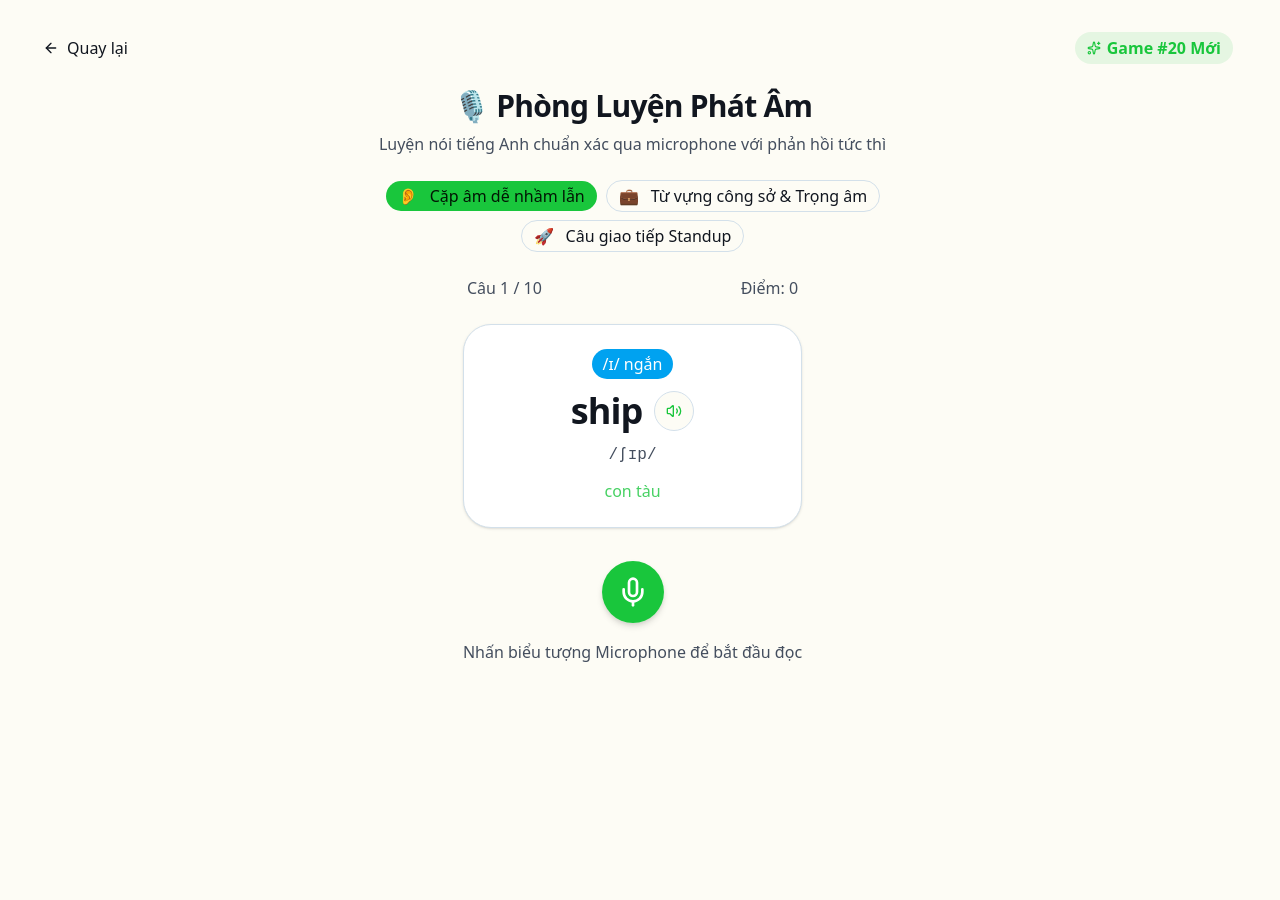
PronunciationPage › allows switching topics and updates the displayed items
# Click on Workplace Words
What coordinates should you click on to do the following:
click the button "💼 Từ vựng công sở & Trọng âm"
I would click on:
 (743, 196)
Its box is [606,180,880,212].
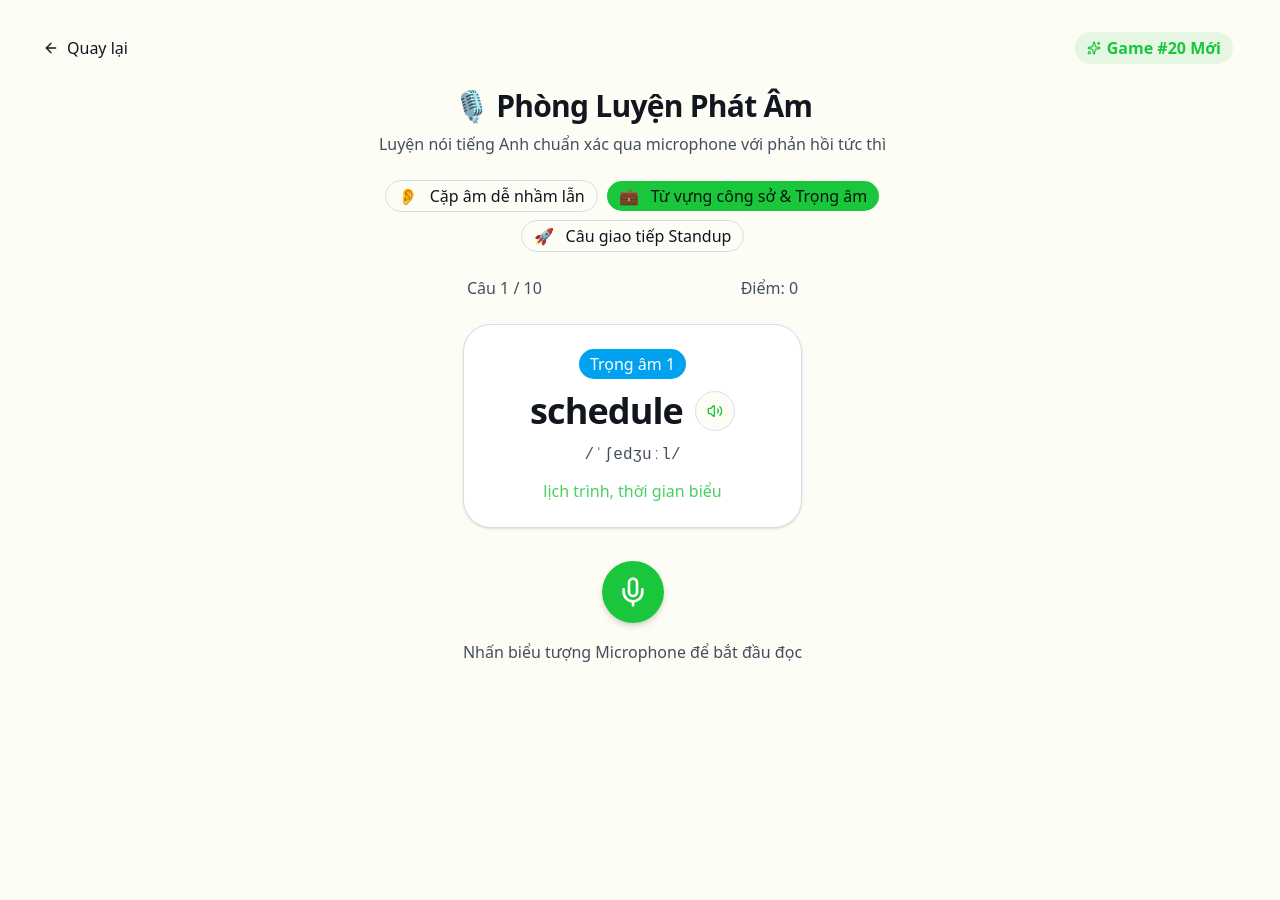
Check: the heading "schedule" is shown, box [530,391,683,431]
Check: the text "/ˈʃedʒuːl/" is shown, box [584,443,680,467]
# Click on Standup Phrases
What coordinates should you click on to do the following:
click the button "🚀 Câu giao tiếp Standup"
I would click on:
 (632, 236)
Its box is [521,220,744,252].
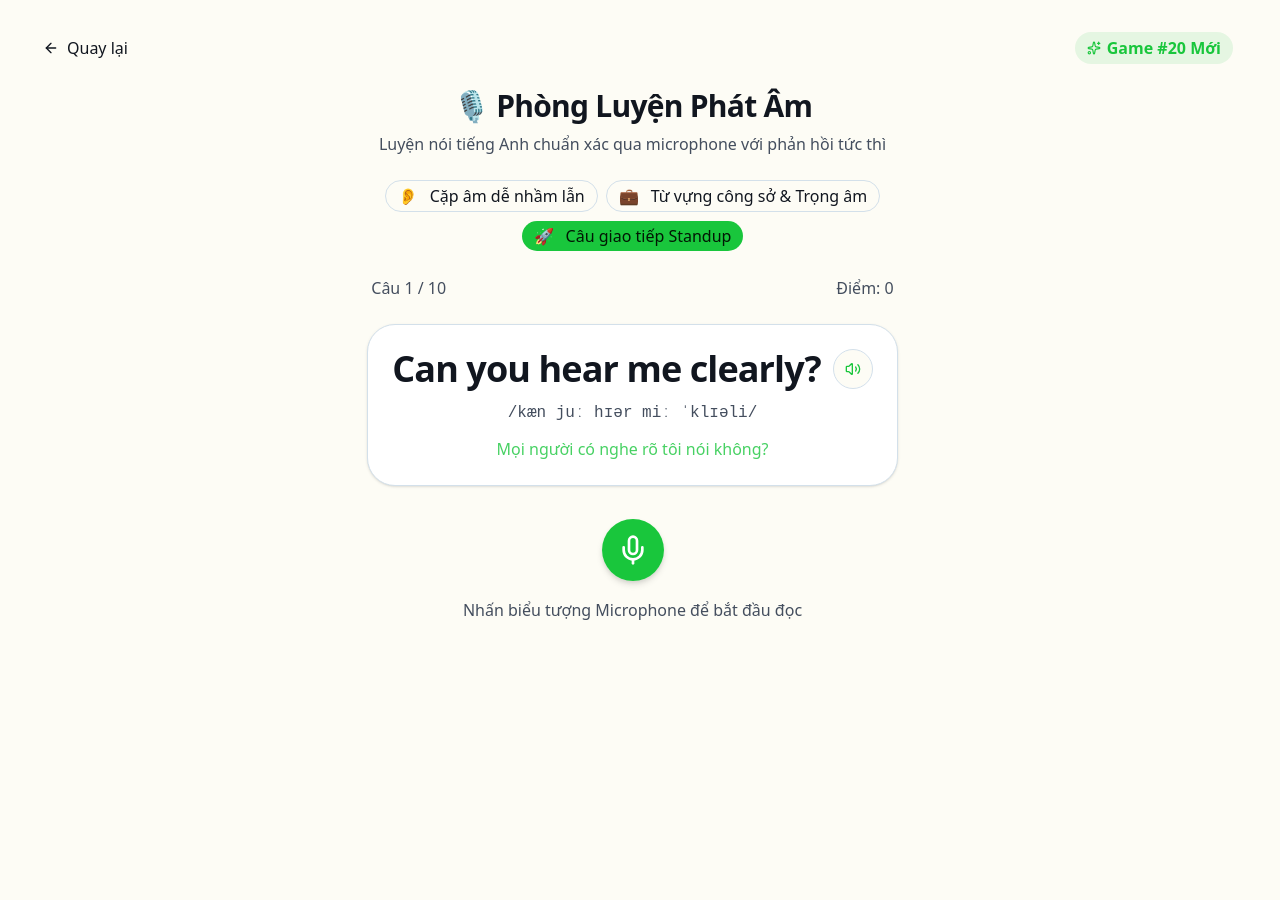
Check: the heading "Can you hear me clearly?" is shown, box [392,349,821,389]
